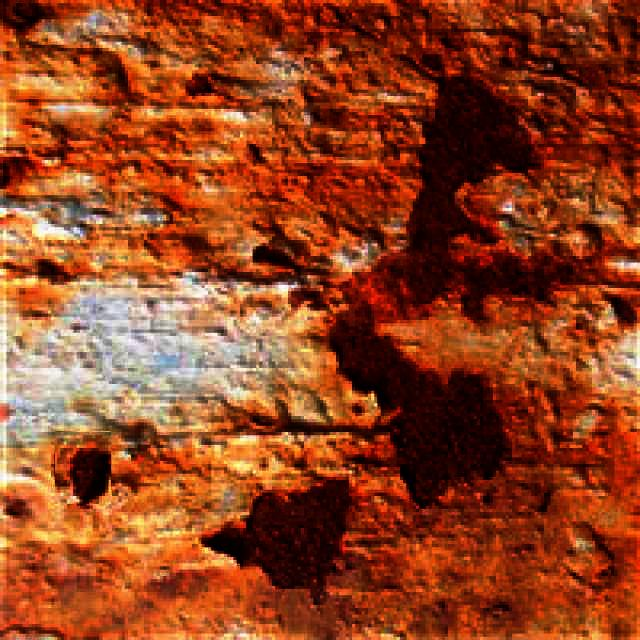Corrosion: (0, 0, 640, 320), (335, 0, 640, 639), (52, 378, 640, 640), (334, 200, 598, 490), (367, 154, 640, 387), (333, 304, 506, 508), (402, 76, 536, 321), (247, 480, 350, 593), (336, 248, 420, 337), (71, 450, 108, 504)
